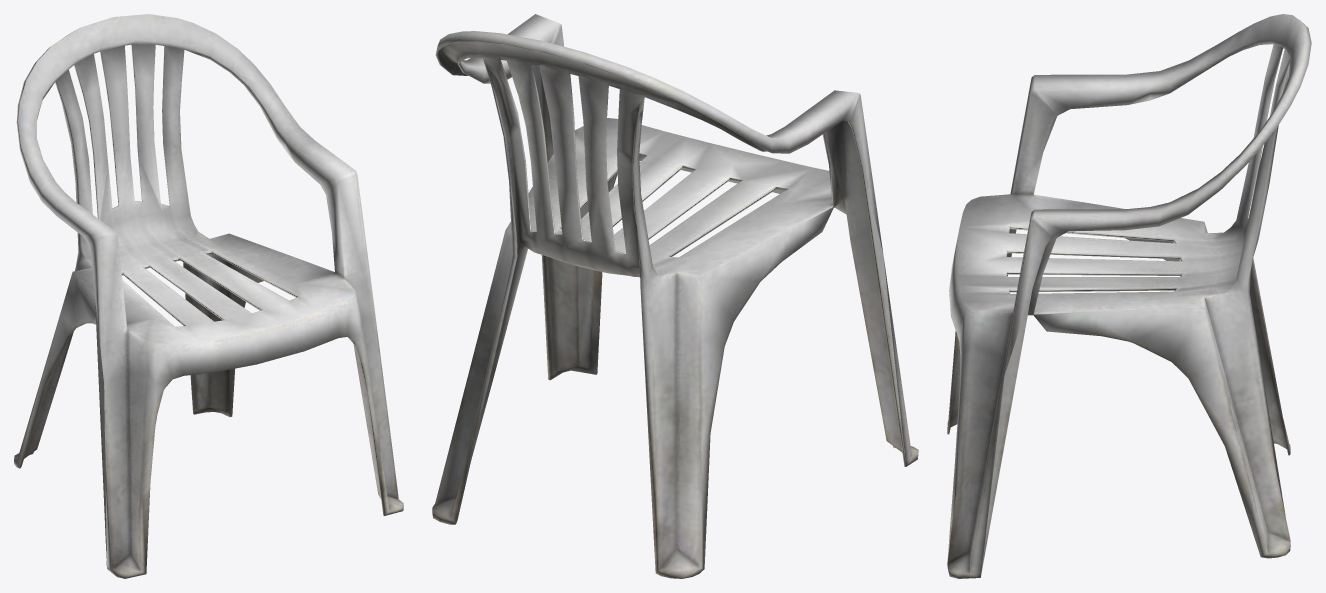
Rendered from plastic_monobloc_chair_01.glb.
The picture shows the model from 3 angles, left to right: view 1: azimuth 30°, elevation 25°; view 2: azimuth 150°, elevation 25°; view 3: azimuth 270°, elevation 25°; orthographic projection. The views are drawn at different scales.
Visible parts, largest first — view 1: plastic_monobloc_chair_01; view 2: plastic_monobloc_chair_01; view 3: plastic_monobloc_chair_01.
Part boxes in pixels (<box>): plastic_monobloc_chair_01: <box>14,14,403,578</box>; plastic_monobloc_chair_01: <box>432,14,918,578</box>; plastic_monobloc_chair_01: <box>947,14,1311,578</box>.
Size of the model in its own units: 0.6423 by 0.8801 by 0.6283.
Materials: 1 (1 with a texture image).
